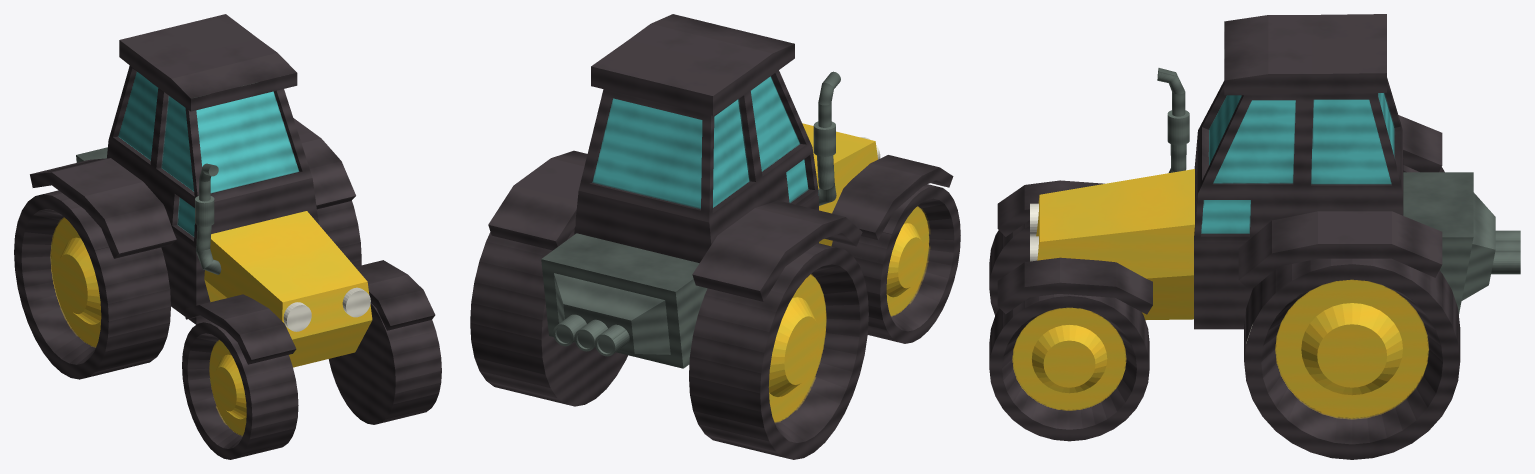
The model's file is tractor.fbx.
The picture shows the model from 3 angles, left to right: view 1: azimuth 30°, elevation 25°; view 2: azimuth 150°, elevation 25°; view 3: azimuth 270°, elevation 25°; orthographic projection. The views are drawn at different scales.
Parts seen in each view (by area): view 1: Tractor EXP; view 2: Tractor EXP; view 3: Tractor EXP.
Part boxes in pixels (x1=…): Tractor EXP: x1=14, y1=14, x2=441, y2=459; Tractor EXP: x1=470, y1=14, x2=960, y2=459; Tractor EXP: x1=989, y1=14, x2=1520, y2=459.
Size of the model in its own units: 368 by 422 by 588.
1 material, 1 textured.
